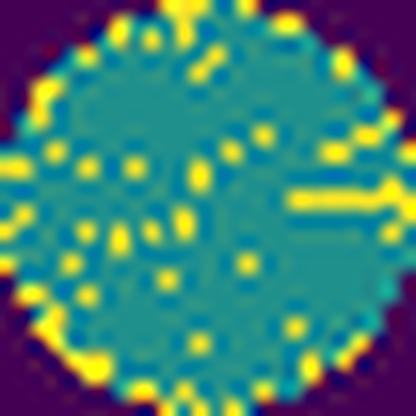Scratch: (277, 169, 416, 250)
